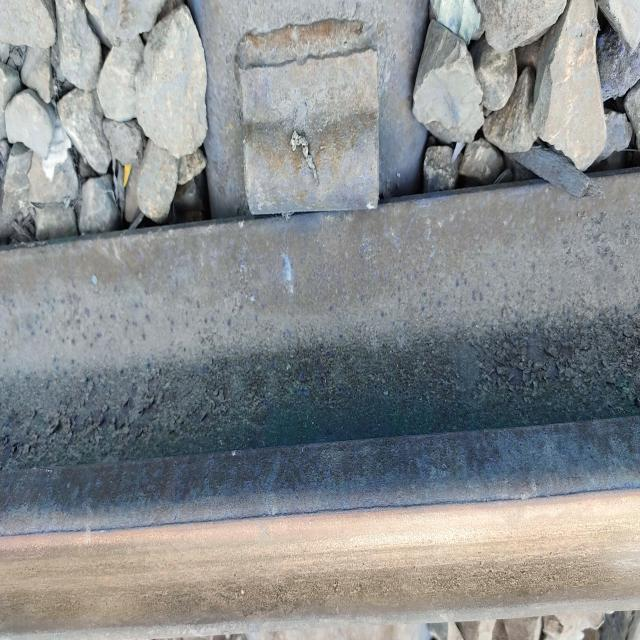Missing Fastener: (238, 20, 379, 215)
